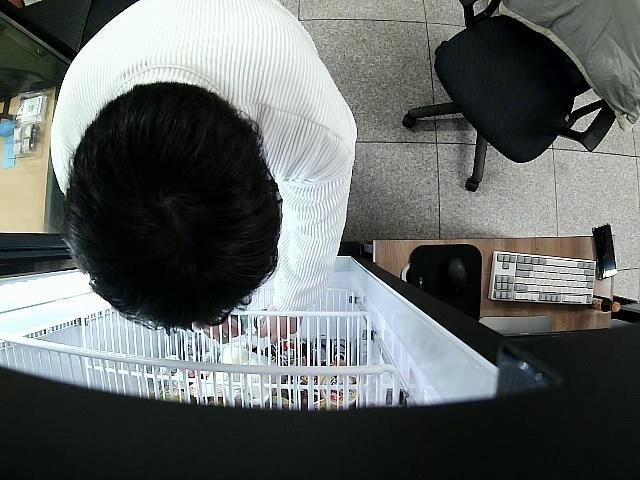12_chilsungCider: (225, 308, 249, 336), (254, 308, 267, 330)
